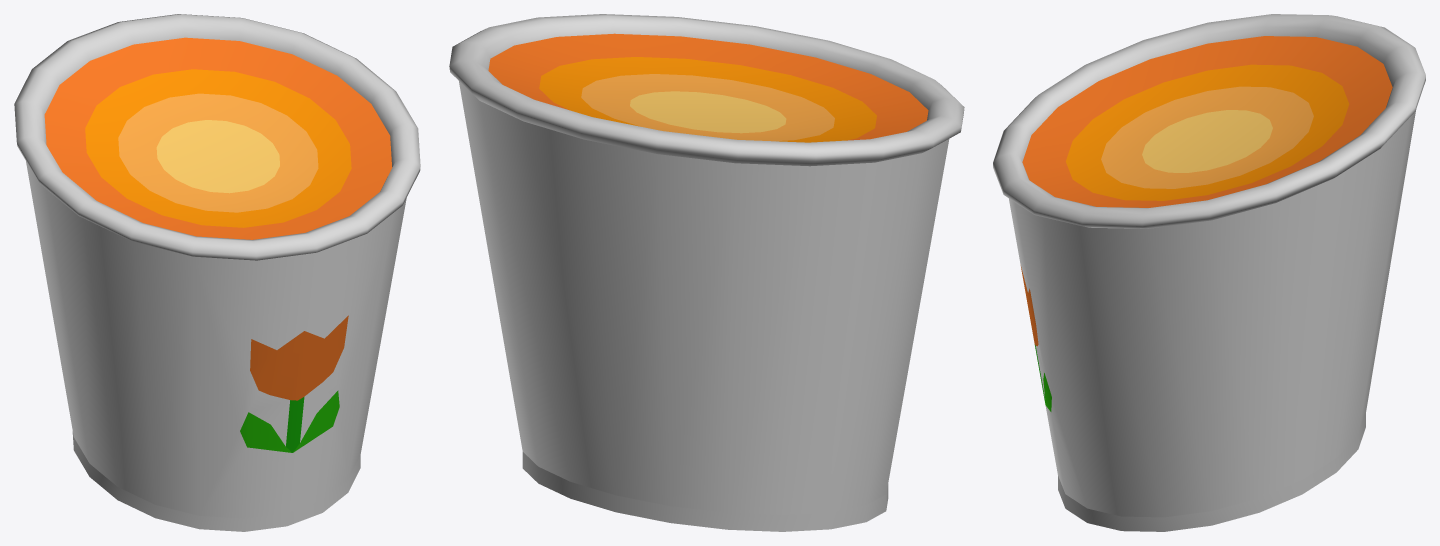
The model's file is D_FBX_08_Portal_A.fbx.
3 renders of one model, left to right at view 1: azimuth 30°, elevation 25°; view 2: azimuth 150°, elevation 25°; view 3: azimuth 270°, elevation 25°, orthographic. The views are drawn at different scales.
Parts seen in each view (by area): view 1: D_FBX_08_Portal_A; view 2: D_FBX_08_Portal_A; view 3: D_FBX_08_Portal_A.
Boxes of the visible parts, bbox=[...] form: D_FBX_08_Portal_A: bbox=[14, 14, 420, 531]; D_FBX_08_Portal_A: bbox=[449, 14, 964, 531]; D_FBX_08_Portal_A: bbox=[993, 14, 1425, 531].
Bounding box in the file's own units: 2.36 × 2.42 × 2.27.
